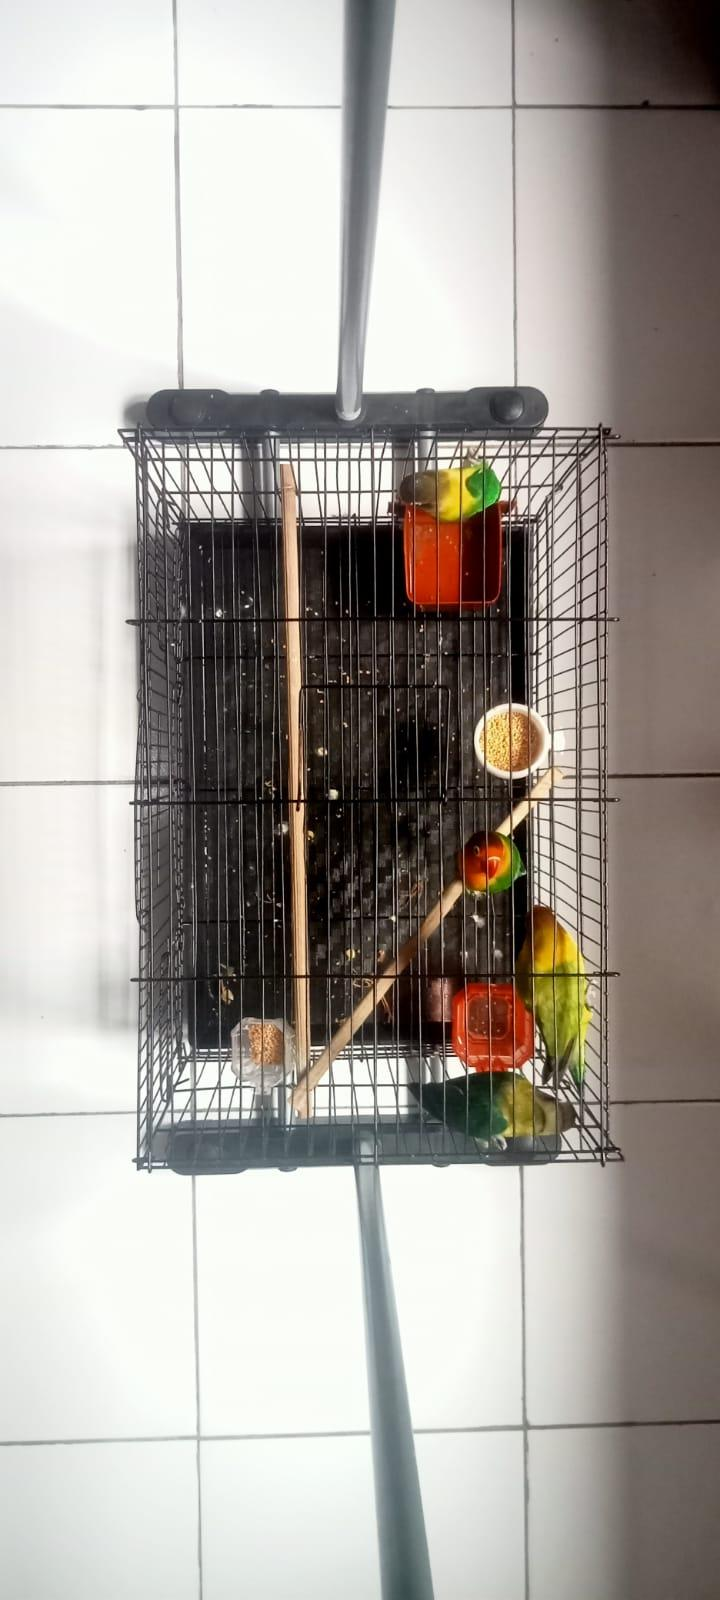LoveBird: (514, 907, 596, 1102), (406, 1070, 577, 1138), (397, 453, 502, 524), (458, 830, 526, 895)
